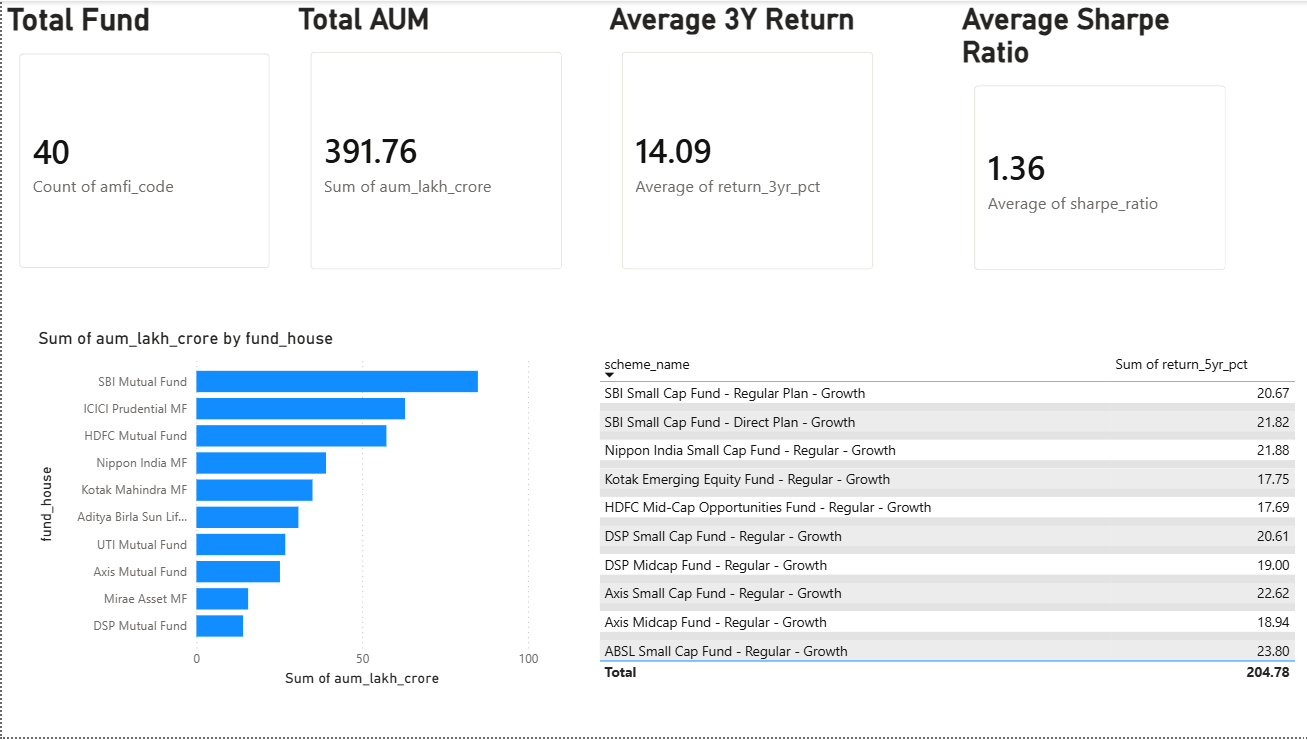

Layout of this report page (visuals, bound fields, positions):
{"tool":"powerbi","page":{"name":"Executive Summary","canvas":[1280,720],"ordinal":4},"visuals":[{"type":"cardVisual","title":"Total Fund","fields":{"Data":["Count(01_fund_master_cleaned.amfi_code)"]},"box":[0,0,279.3,279.3],"z":0},{"type":"cardVisual","title":"Total AUM","fields":{"Data":["Sum(03_aum_by_fund_house_cleaned.aum_lakh_crore)"]},"box":[284.8,0,280.7,280.7],"z":1},{"type":"cardVisual","title":"Average 3Y Return","fields":{"Data":["Avg(07_scheme_performance_cleaned.return_3yr_pct)"]},"box":[589,0,280.7,280.7],"z":2},{"type":"cardVisual","title":"Average Sharpe Ratio","fields":{"Data":["Avg(07_scheme_performance_cleaned.sharpe_ratio)"]},"box":[934.6,0,280.7,280.7],"z":3},{"type":"clusteredBarChart","fields":{"Y":["Sum(03_aum_by_fund_house_cleaned.aum_lakh_crore)"],"Category":["03_aum_by_fund_house_cleaned.fund_house"]},"box":[30.4,319.4,499.1,356.7],"z":4},{"type":"tableEx","fields":{"Values":["07_scheme_performance_cleaned.scheme_name","Sum(07_scheme_performance_cleaned.return_5yr_pct)"]},"box":[577.9,338.7,702.4,337.4],"z":5}]}

Visuals, with their boxes in screenshot pixels (x1, y1, x2, y2), scaled from the page's 1280x720 canvas onto the 1307x740 screenshot:
"Total Fund" cardVisual: l=0, t=0, r=285, b=287
"Total AUM" cardVisual: l=291, t=0, r=577, b=288
"Average 3Y Return" cardVisual: l=601, t=0, r=888, b=288
"Average Sharpe Ratio" cardVisual: l=954, t=0, r=1241, b=288
clusteredBarChart - Sum(03_aum_by_fund_house_cleaned.aum_lakh_crore) x 03_aum_by_fund_house_cleaned.fund_house: l=31, t=328, r=541, b=695
tableEx - 07_scheme_performance_cleaned.scheme_name x Sum(07_scheme_performance_cleaned.return_5yr_pct): l=590, t=348, r=1306, b=695
